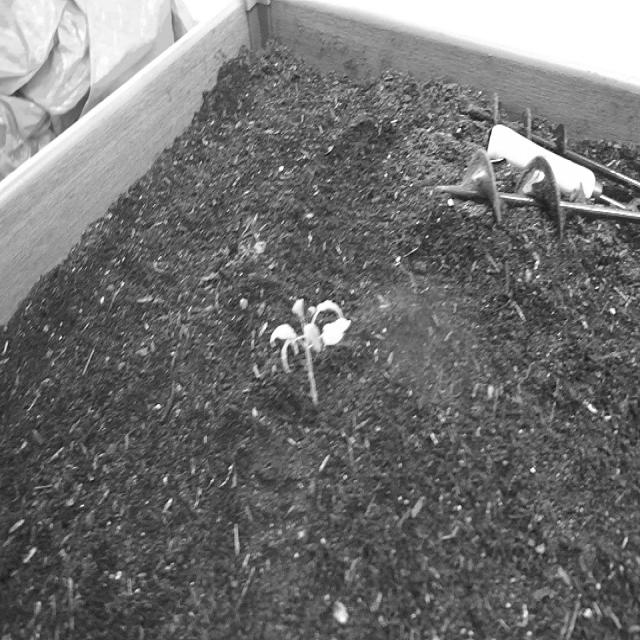Healthy: (268, 286, 355, 419)
